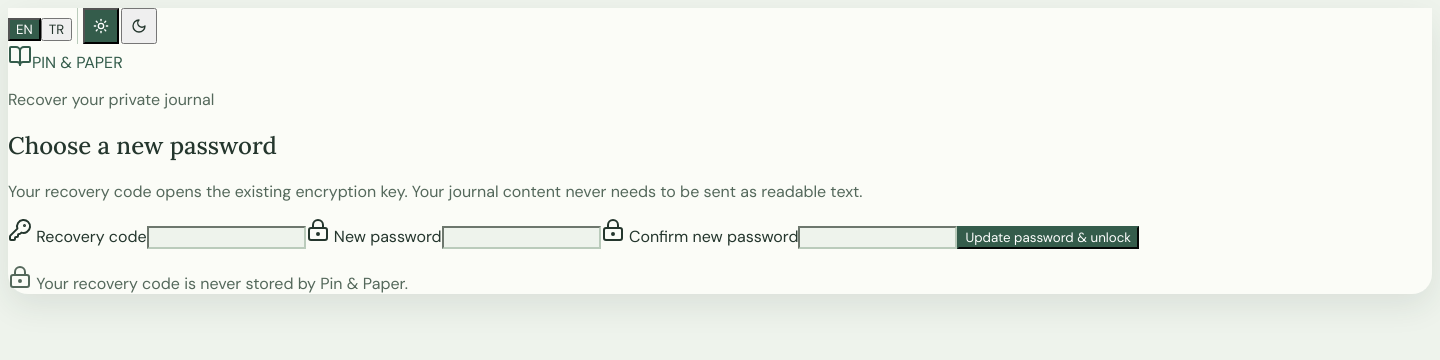
Scenario: password recovery form › does not contact Supabase when password confirmation differs
The image size is (1440, 360).
In the password field labelled "Recovery code": (226, 237) top-left (147, 226), bottom-right (306, 249), type "recovery-secret"
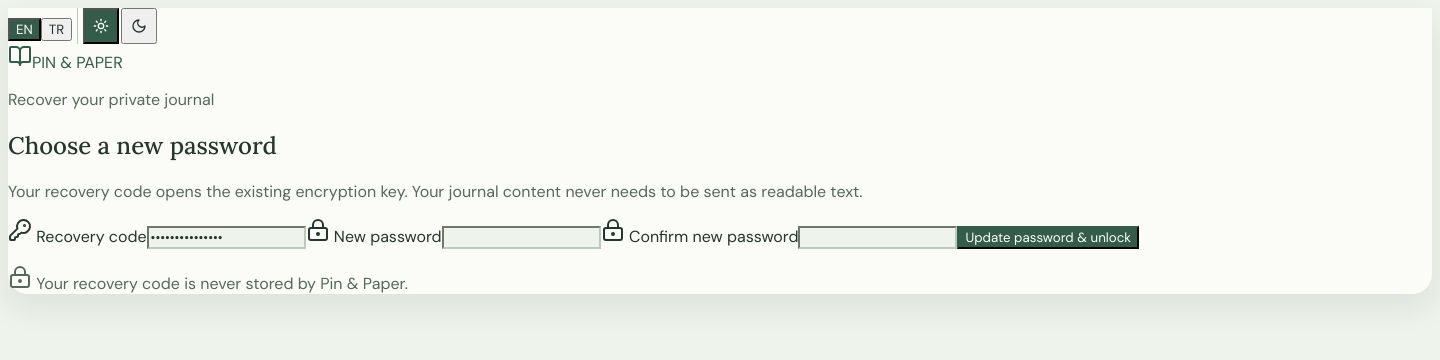
In the password field labelled "New password": (521, 237) top-left (442, 226), bottom-right (601, 249), type "new-long-password"
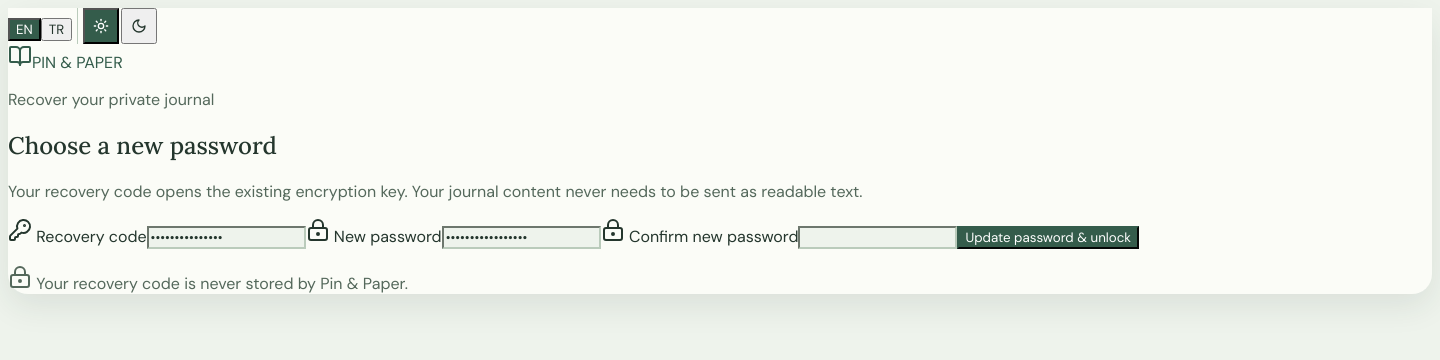
In the password field labelled "Confirm new password": (878, 237) top-left (798, 226), bottom-right (958, 249), type "different-password"
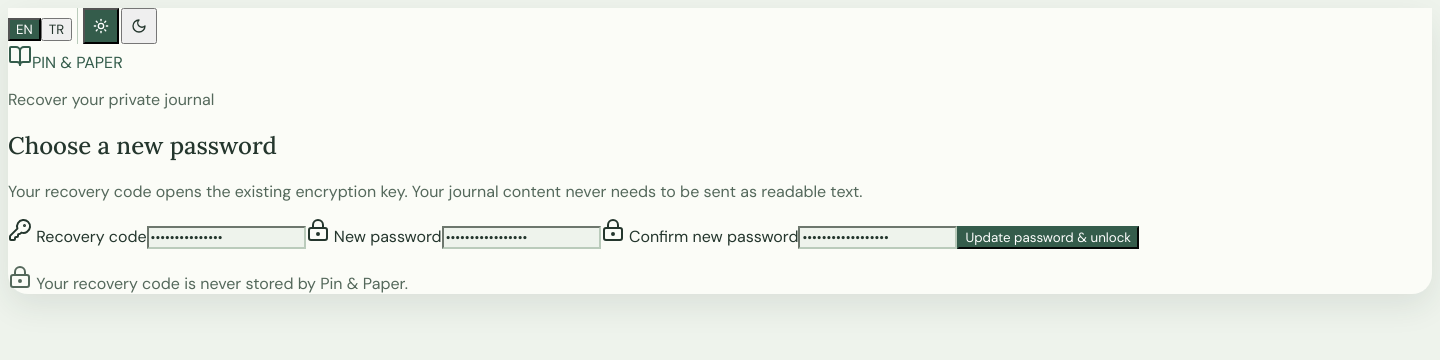
Click the button "Update password & unlock": (1048, 237) top-left (958, 226), bottom-right (1139, 249)
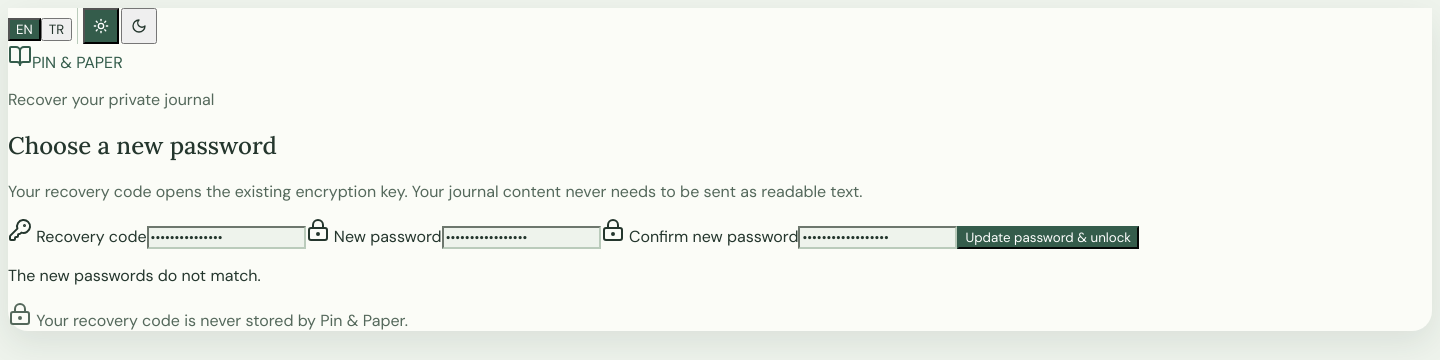
Now the message shows "do not match", box top-left (8, 265), bottom-right (261, 286)
